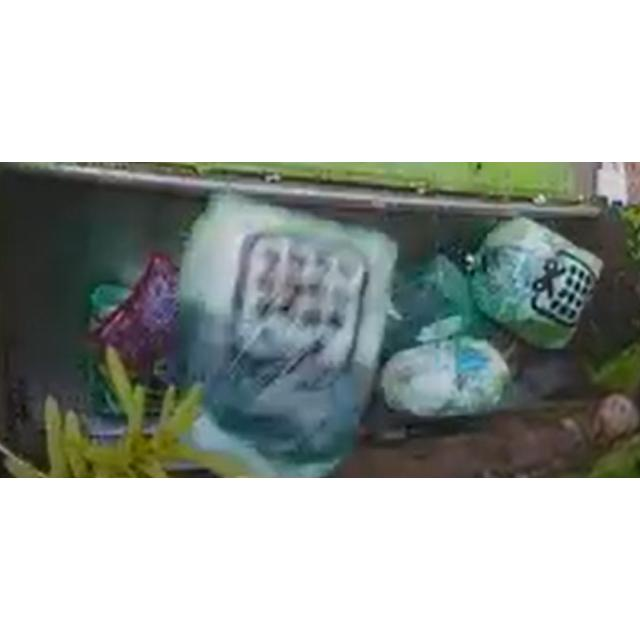general_trashbag: (180, 194, 396, 476), (472, 218, 602, 348)
